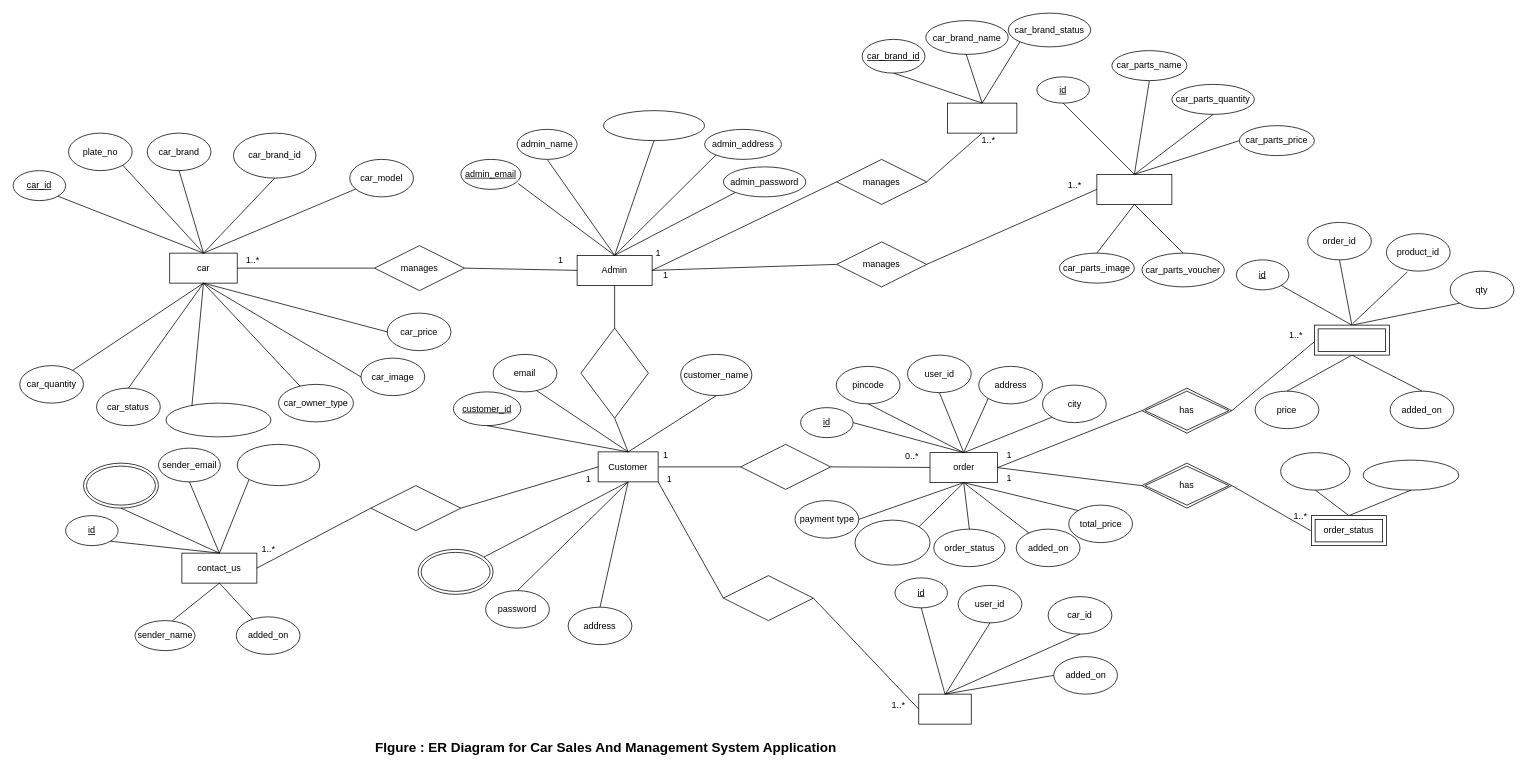
Image size: 1527x776. Some labels were removed from this diagram. The centre of each missing label's shape, as x and y in pixels:
"add cars" goes at point (768, 598).
"add feedback" goes at point (415, 508).
"admin_phone_number" goes at point (654, 125).
"car_parts" goes at point (1134, 189).
"car_short_description" goes at point (218, 419).
"CarBrand" goes at point (982, 117).
"keep track of" goes at point (614, 372).
"order_detail" goes at point (1351, 339).
"order_status_id" goes at point (1315, 471).
"order_status_name" goes at point (1410, 474).
"payment_status" goes at point (892, 542).
"Phone_number" goes at point (455, 571).
"place order" goes at point (785, 466).
"sender_comment" goes at point (278, 465).
"sender_mobile" goes at point (120, 485).
"wishlist" goes at point (944, 708).
